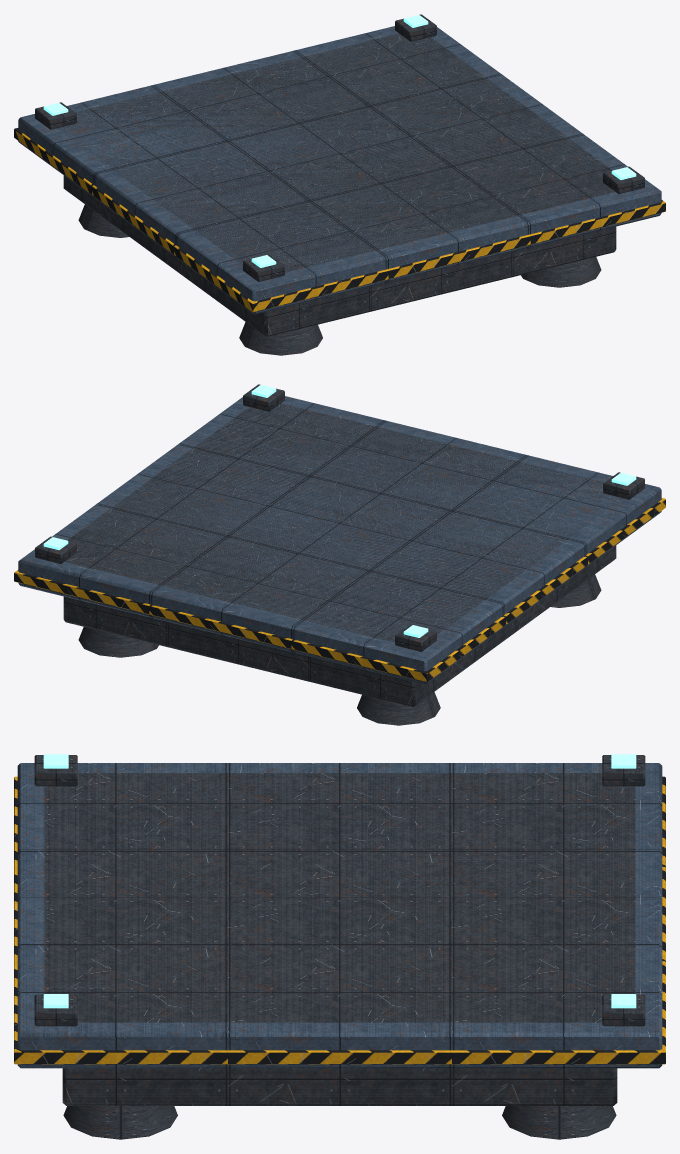
File: hover_platform_360_lowpoly.glb
The picture shows the model from 3 angles, top to bottom: view 1: azimuth 30°, elevation 25°; view 2: azimuth 150°, elevation 25°; view 3: azimuth 270°, elevation 25°; orthographic projection. The views are drawn at different scales.
Parts seen in each view (by area): view 1: plataforma_espacial; view 2: plataforma_espacial; view 3: plataforma_espacial.
Boxes of the visible parts, x1,y1,x2,y2 form: plataforma_espacial: [14, 14, 665, 355]; plataforma_espacial: [14, 384, 665, 725]; plataforma_espacial: [14, 754, 665, 1139].
Bounding box in the file's own units: 3.64 × 0.905 × 3.64.
Materials: 4 (3 with a texture image).
